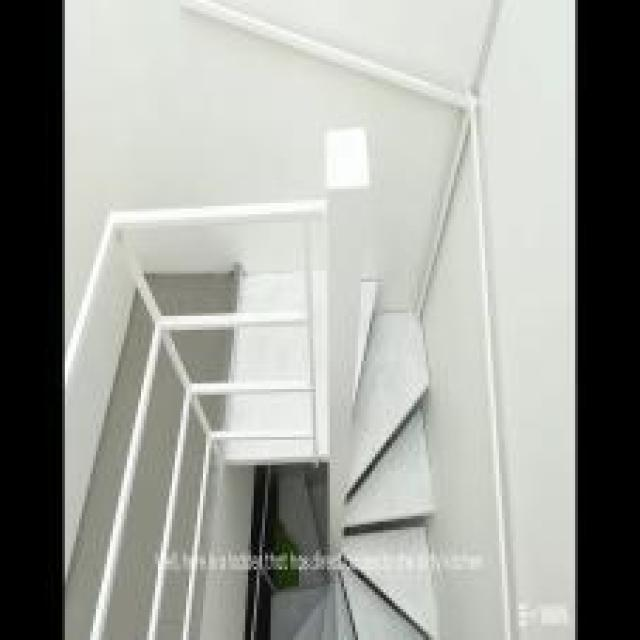downstair: (351, 289, 447, 542)
